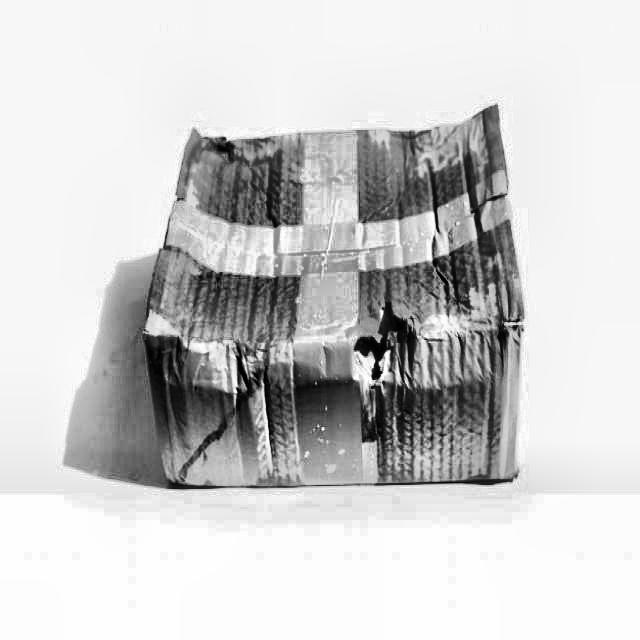box: (146, 104, 526, 499)
hole: (352, 295, 419, 394), (206, 128, 236, 168)
